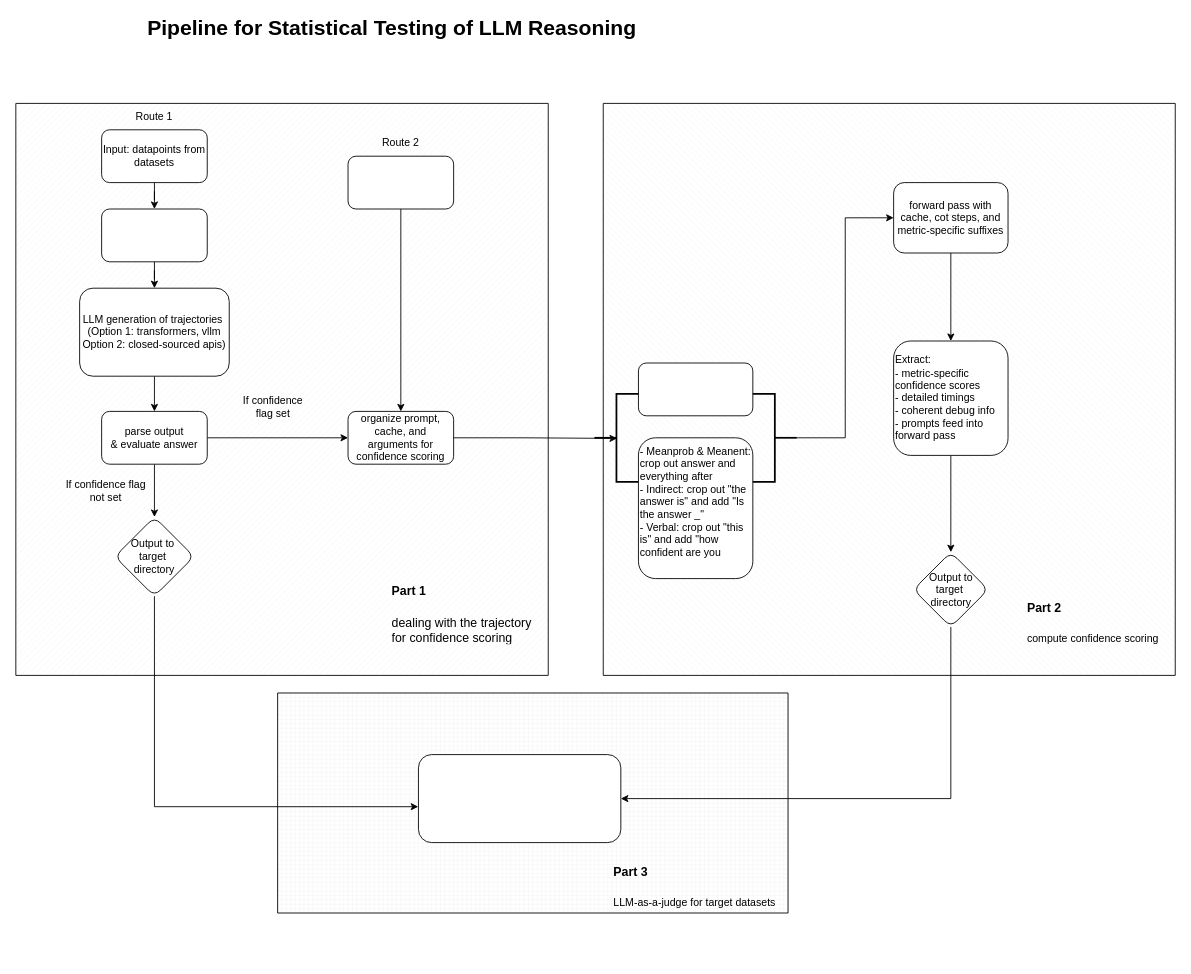
Image size: 1191x974. Some labels were removed from this diagram. Here are the shapes that lost their labels. From the top down, the centre of each, then its label:
(x=400, y=182): Input: pre-generated trajectories
(x=154, y=235): format messages + prompt template
(x=695, y=389): sample steps for true bootstrap & build cot steps for prompt
(x=519, y=798): Run llm-as-a-judge on results in directory for: - codeqa - cs1qa
